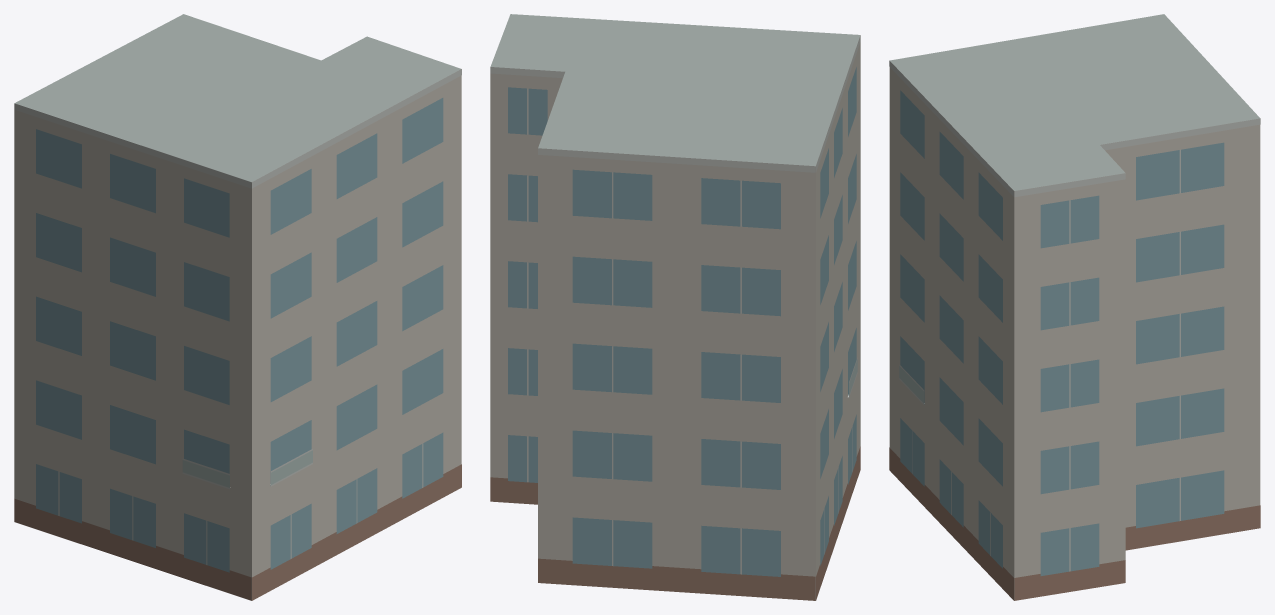
The model's file is survey-upis-32866941.glb.
3 renders of one model, left to right at view 1: azimuth 30°, elevation 25°; view 2: azimuth 150°, elevation 25°; view 3: azimuth 270°, elevation 25°, orthographic. The views are drawn at different scales.
Visible parts, largest first — view 1: survey-upis-32866941.tmp; view 2: survey-upis-32866941.tmp; view 3: survey-upis-32866941.tmp.
Boxes of the visible parts, x1,y1,x2,y2 form: survey-upis-32866941.tmp: (14, 14, 461, 600); survey-upis-32866941.tmp: (490, 14, 860, 600); survey-upis-32866941.tmp: (889, 14, 1260, 600).
Size of the model in its own units: 14.89 by 16.05 by 13.18.
